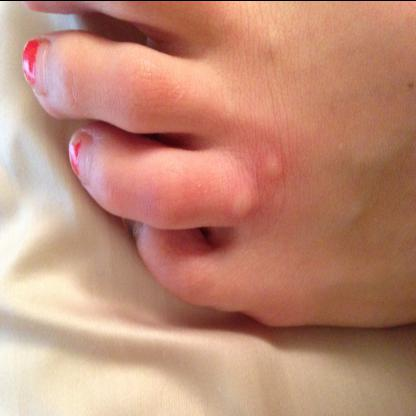Fire ant: (232, 184, 260, 224), (260, 150, 284, 180)
